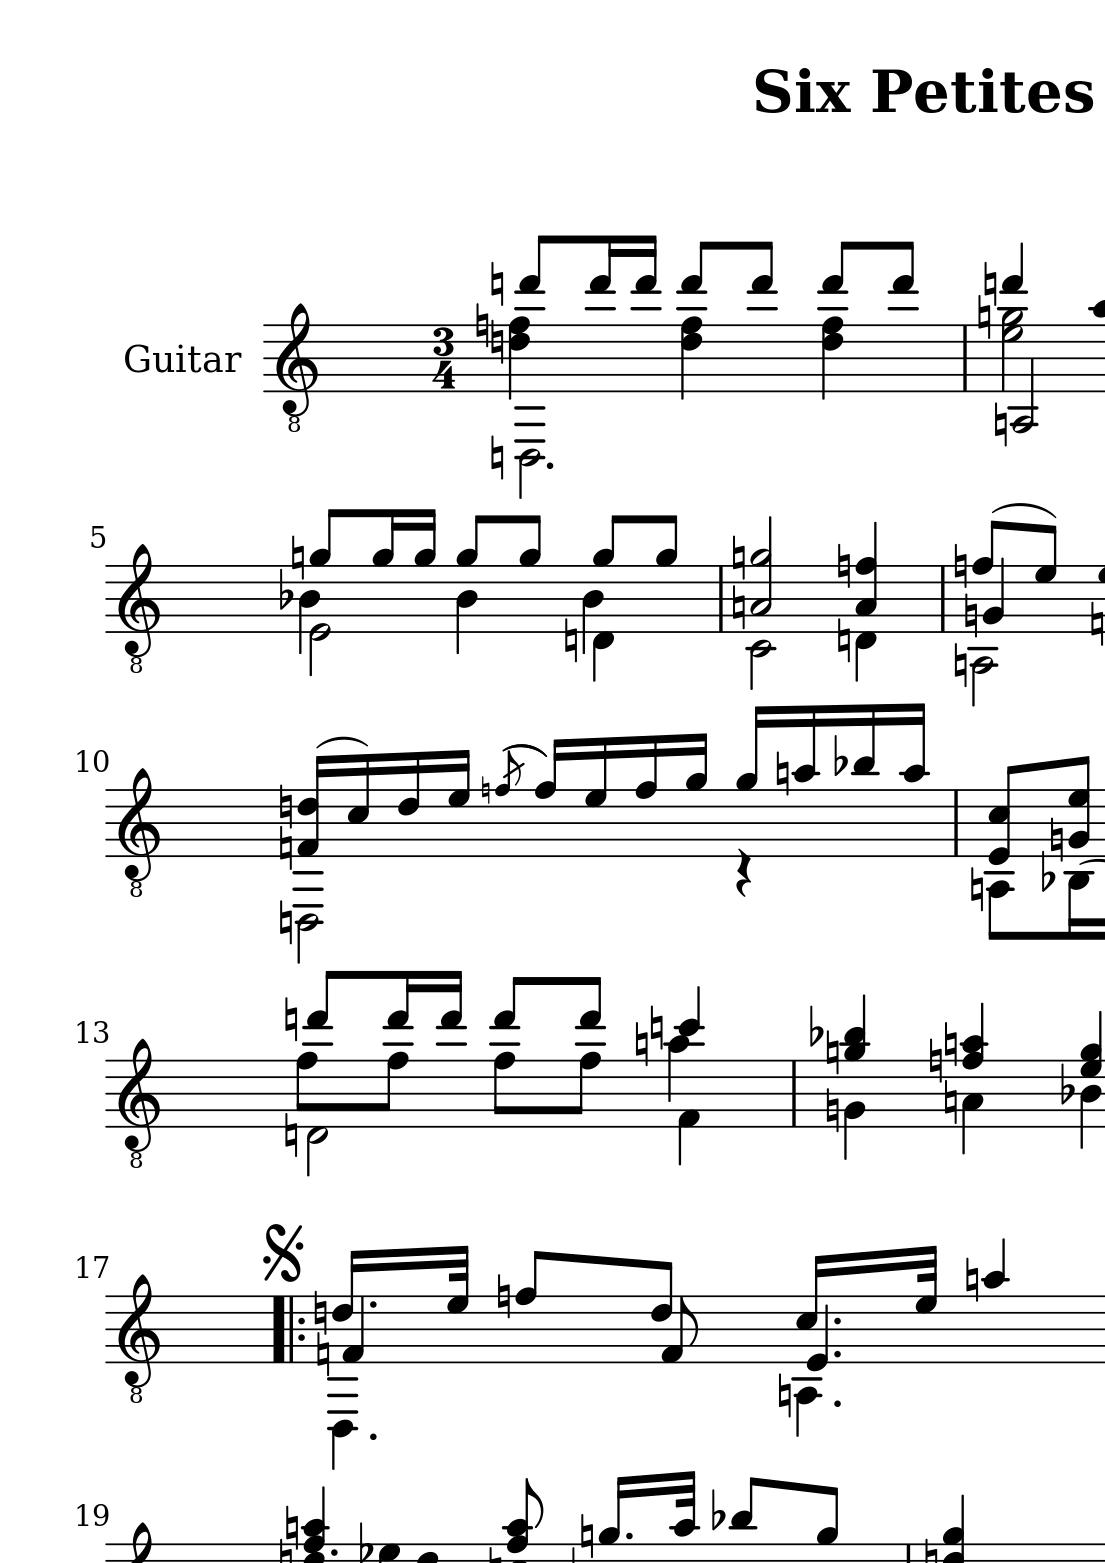0: (90, 745, 110, 779)
1: (74, 746, 90, 777), (74, 1501, 90, 1530), (74, 1254, 90, 1282), (75, 1018, 88, 1048)
16_10: (789, 703, 818, 860), (901, 702, 928, 861)
16_11: (849, 701, 878, 860)
16_13: (584, 236, 616, 392), (436, 967, 465, 1128), (630, 236, 658, 393)
16_1_6: (297, 753, 330, 857)
16_5: (344, 752, 370, 859)
16_6: (396, 751, 421, 859)
16_7: (584, 733, 608, 860), (446, 747, 471, 857)
16_8: (532, 735, 566, 859), (633, 734, 659, 859)
16_9: (734, 702, 767, 859), (370, 508, 399, 633), (683, 731, 708, 857), (413, 508, 436, 633)
2_3_9: (749, 515, 774, 634)
2_7_9: (1001, 307, 1025, 393)
3: (429, 324, 454, 358), (91, 1018, 109, 1048)
32_7: (912, 1243, 940, 1364), (445, 1243, 471, 1364)
4: (429, 358, 457, 391)
4_10: (982, 1237, 1006, 1364)
4_3_9: (854, 521, 879, 631)
4_4: (454, 564, 478, 655)
4_6_8: (677, 311, 702, 399), (507, 315, 532, 402), (818, 313, 843, 401)
5: (88, 523, 106, 550)
7: (92, 1252, 109, 1282)
8_0_5: (988, 763, 1021, 865)
8_1: (660, 1295, 700, 1364)
8_13: (746, 239, 779, 393), (887, 242, 918, 395)
8_2_7: (1067, 755, 1092, 859)
8_7: (1033, 524, 1058, 635)
8_8: (513, 1248, 547, 1366)
8_9: (515, 513, 542, 634), (653, 514, 678, 631)
9: (90, 1501, 110, 1530)
Acciaccature: (492, 747, 527, 854)
Flat: (1057, 1060, 1075, 1107), (709, 1486, 726, 1531), (1039, 849, 1055, 893), (277, 567, 292, 613), (807, 1002, 822, 1049), (356, 1520, 372, 1563), (832, 733, 847, 776)
Guit: (123, 338, 199, 376)
LeftRepeatSign: (268, 1296, 307, 1364)
Lower_Gclef: (116, 765, 163, 899), (116, 1034, 163, 1168), (116, 541, 161, 673), (116, 1272, 161, 1404), (274, 303, 319, 433)
Natural: (281, 1502, 300, 1559), (631, 1016, 651, 1070), (561, 615, 579, 665), (834, 616, 851, 666), (474, 299, 489, 356), (961, 1254, 979, 1303), (578, 1512, 596, 1561), (775, 1370, 792, 1422), (488, 260, 506, 307), (975, 297, 993, 344), (281, 1111, 299, 1159), (494, 1271, 511, 1321), (277, 782, 294, 832), (488, 433, 505, 482), (835, 541, 851, 590), (315, 1331, 331, 1380), (982, 260, 999, 309), (315, 1289, 331, 1338), (967, 865, 984, 912), (1048, 816, 1064, 863), (649, 1002, 664, 1057), (277, 823, 293, 873), (282, 994, 299, 1040), (824, 1026, 840, 1076), (993, 399, 1008, 448), (952, 541, 967, 590), (952, 641, 967, 690), (1088, 599, 1104, 648), (774, 749, 789, 798), (961, 593, 978, 639), (823, 1088, 840, 1134), (729, 533, 746, 578), (489, 315, 503, 366), (289, 535, 305, 581), (729, 584, 745, 630), (927, 1034, 942, 1080), (942, 1081, 958, 1127), (277, 898, 292, 947), (944, 1019, 958, 1067), (480, 774, 492, 805)
Rests4: (732, 847, 753, 900)
Segno: (258, 1221, 309, 1282)
Single_barline: (947, 790, 964, 856), (786, 1062, 802, 1127), (713, 566, 728, 631), (957, 326, 972, 391), (935, 567, 950, 631)
Slur: (993, 500, 1055, 520), (315, 734, 368, 751), (503, 743, 547, 759)
TimeSig: (429, 324, 457, 392)
dot: (830, 1347, 843, 1361), (830, 1397, 843, 1410), (367, 1298, 379, 1311), (831, 1314, 843, 1327), (326, 1546, 338, 1559), (366, 1431, 378, 1442), (543, 459, 554, 470), (623, 1531, 634, 1541)
